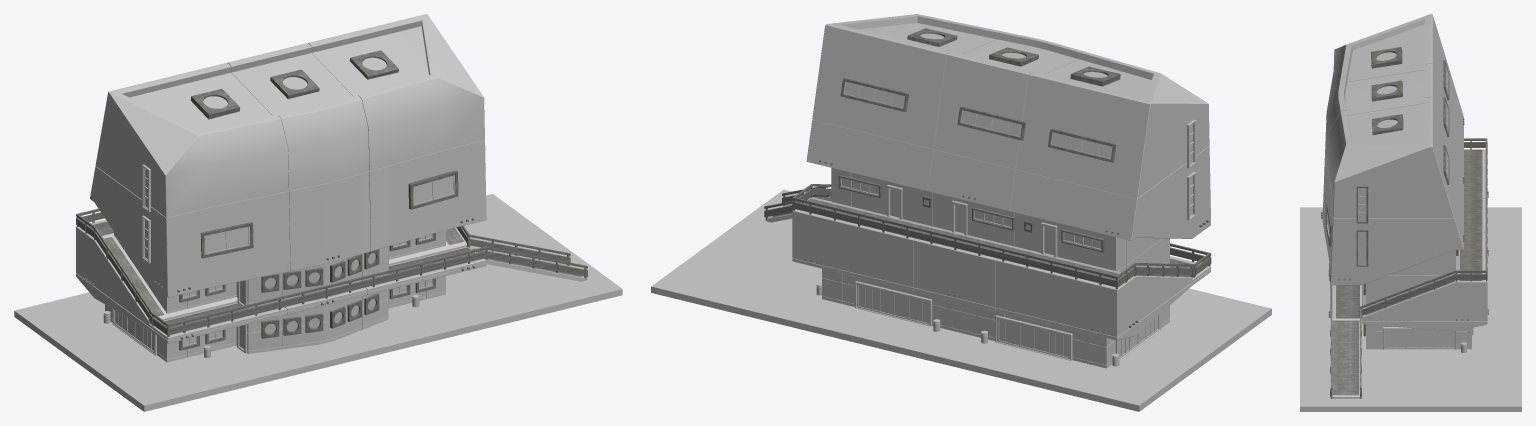
Rendered from Kitbash3D_Brutalist_Structure07.fbx.
3 views of the same model, side by side, from view 1: azimuth 30°, elevation 25°; view 2: azimuth 150°, elevation 25°; view 3: azimuth 270°, elevation 25° (orthographic). The views are drawn at different scales.
Visible parts, largest first — view 1: SM_Bldg_F_BldgConcBrown, SM_Bldg_F_Ground4, SM_Bldg_F_BldgConc, SM_Bldg_F_Details_WinPods, SM_Bldg_F_Railing_Conc, SM_Bldg_F_WindowsGlass, SM_Bldg_F_Conc_FloorRamp, SM_Bldg_F_Mull_Frames; view 2: SM_Bldg_F_BldgConcBrown, SM_Bldg_F_Ground4, SM_Bldg_F_BldgConc, SM_Bldg_F_WindowsGlass, SM_Bldg_F_Railing_Conc, SM_Bldg_F_Mull_Frames, SM_Bldg_F_Details_WinPods, SM_Bldg_F_Conc_FloorRamp; view 3: SM_Bldg_F_BldgConcBrown, SM_Bldg_F_Ground4, SM_Bldg_F_Conc_FloorRamp, SM_Bldg_F_Details_WinPods, SM_Bldg_F_BldgConc, SM_Bldg_F_Railing_Conc, SM_Bldg_F_WindowsGlass, SM_Bldg_F_Mull_Frames.
Part boxes in pixels (bbox=[...]): SM_Bldg_F_BldgConcBrown: bbox=[76, 14, 585, 343]; SM_Bldg_F_Ground4: bbox=[14, 194, 622, 411]; SM_Bldg_F_BldgConc: bbox=[105, 230, 445, 362]; SM_Bldg_F_Details_WinPods: bbox=[85, 50, 474, 350]; SM_Bldg_F_Railing_Conc: bbox=[76, 208, 587, 337]; SM_Bldg_F_WindowsGlass: bbox=[115, 57, 453, 350]; SM_Bldg_F_Conc_FloorRamp: bbox=[81, 221, 580, 333]; SM_Bldg_F_Mull_Frames: bbox=[112, 164, 455, 355]; SM_Bldg_F_BldgConcBrown: bbox=[766, 14, 1210, 340]; SM_Bldg_F_Ground4: bbox=[651, 189, 1271, 411]; SM_Bldg_F_BldgConc: bbox=[822, 168, 1169, 368]; SM_Bldg_F_WindowsGlass: bbox=[841, 33, 1192, 357]; SM_Bldg_F_Railing_Conc: bbox=[764, 184, 1211, 289]; SM_Bldg_F_Mull_Frames: bbox=[840, 81, 1195, 360]; SM_Bldg_F_Details_WinPods: bbox=[804, 28, 1208, 332]; SM_Bldg_F_Conc_FloorRamp: bbox=[771, 197, 1204, 286]; SM_Bldg_F_BldgConcBrown: bbox=[1322, 14, 1487, 398]; SM_Bldg_F_Ground4: bbox=[1300, 207, 1521, 411]; SM_Bldg_F_Conc_FloorRamp: bbox=[1332, 149, 1482, 395]; SM_Bldg_F_Details_WinPods: bbox=[1321, 47, 1488, 336]; SM_Bldg_F_BldgConc: bbox=[1366, 250, 1471, 349]; SM_Bldg_F_Railing_Conc: bbox=[1330, 138, 1487, 398]; SM_Bldg_F_WindowsGlass: bbox=[1327, 52, 1453, 347]; SM_Bldg_F_Mull_Frames: bbox=[1326, 64, 1473, 349].
Size of the model in its own units: 26.01 by 13.16 by 12.24.
